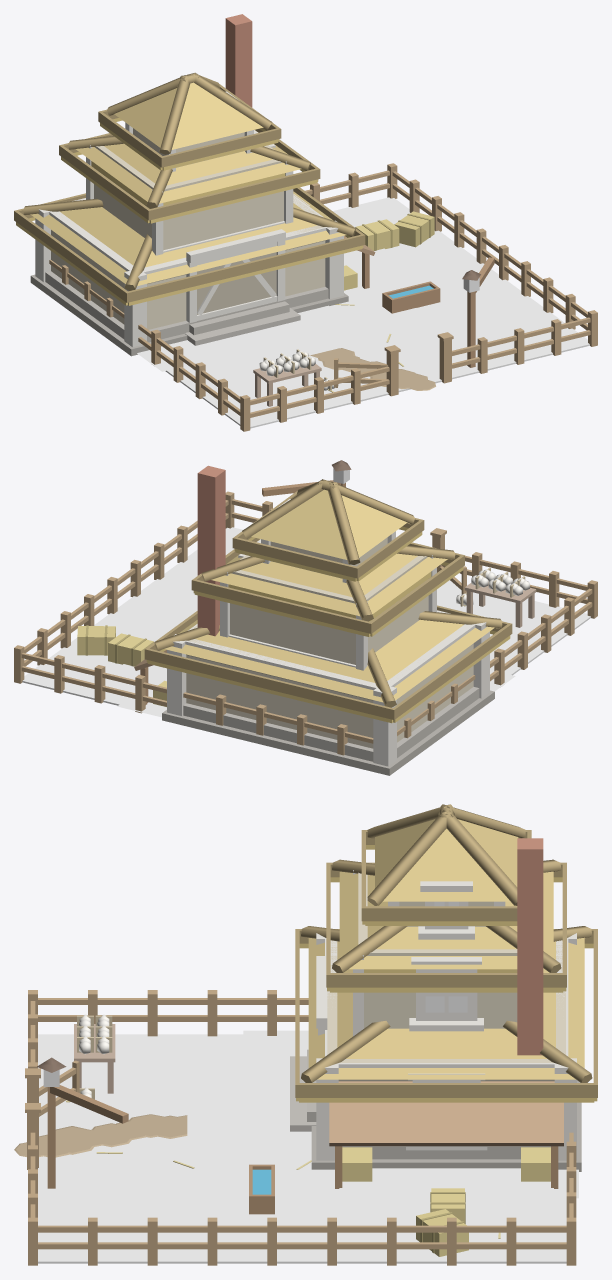
File: sheep_pen_2.glb
3 renders of one model, top to bottom at view 1: azimuth 30°, elevation 25°; view 2: azimuth 150°, elevation 25°; view 3: azimuth 270°, elevation 25°, orthographic. The views are drawn at different scales.
Parts seen in each view (by area): view 1: body6, sheep_pen_2, body2, body; view 2: body6, sheep_pen_2, body5; view 3: body6, sheep_pen_2, body5.
Part boxes in pixels (x1,y1,x2,y2): body6: [14, 14, 597, 431]; sheep_pen_2: [137, 215, 418, 380]; body2: [236, 242, 277, 310]; body: [197, 252, 237, 320]; body6: [14, 460, 597, 775]; sheep_pen_2: [89, 628, 517, 717]; body5: [456, 567, 495, 606]; body6: [14, 804, 597, 1265]; sheep_pen_2: [187, 1030, 578, 1220]; body5: [77, 1036, 112, 1099].
Size of the model in its own units: 2.76 by 1.64 by 2.8.
